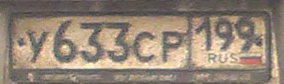character: (102, 16, 132, 64), (79, 16, 103, 65), (53, 16, 78, 63), (26, 28, 51, 64), (133, 29, 158, 63), (160, 28, 183, 64), (234, 14, 255, 53), (194, 16, 214, 53), (214, 16, 234, 51)
